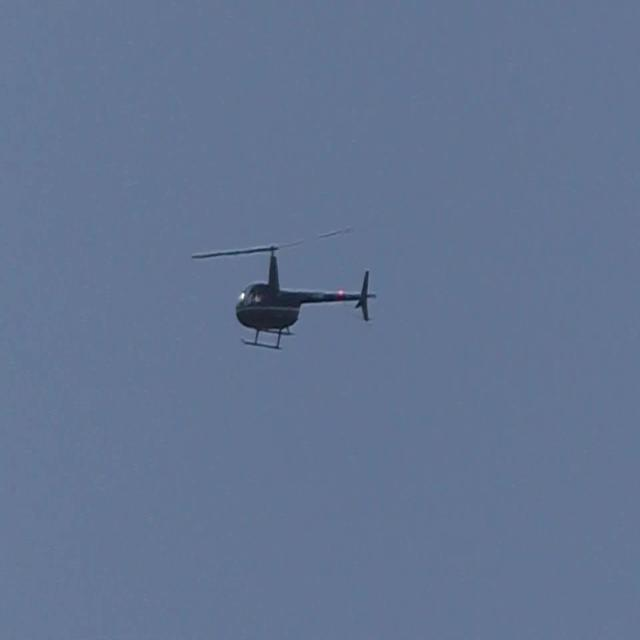CIV_HELO: (234, 244, 378, 352)
